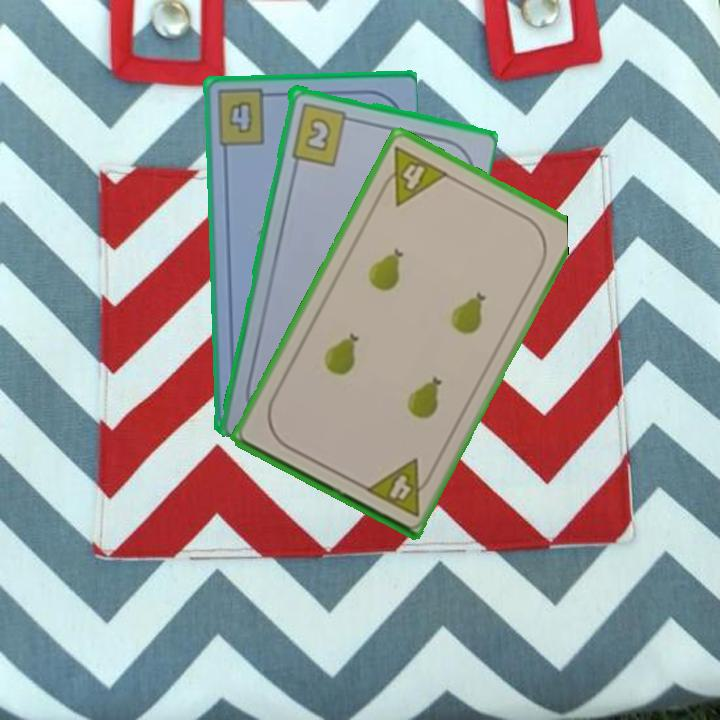2b: (287, 99, 358, 168)
4b: (212, 86, 276, 148)
4p: (374, 142, 452, 209), (361, 455, 437, 520)
